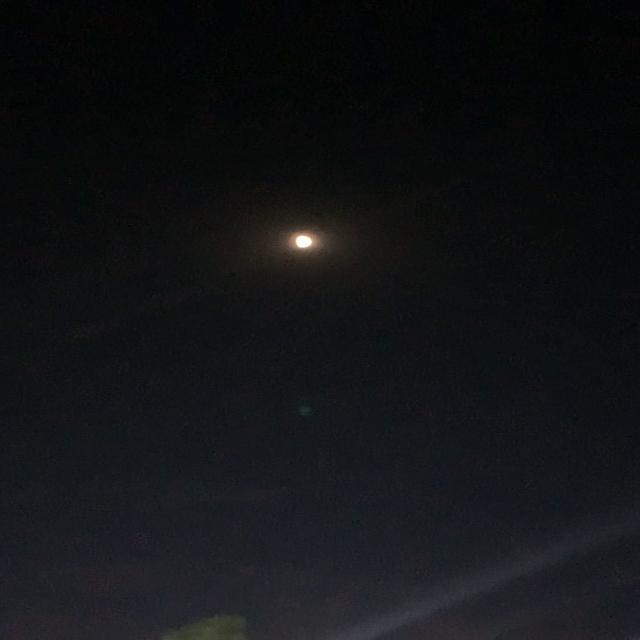moon: (250, 218, 302, 248)
